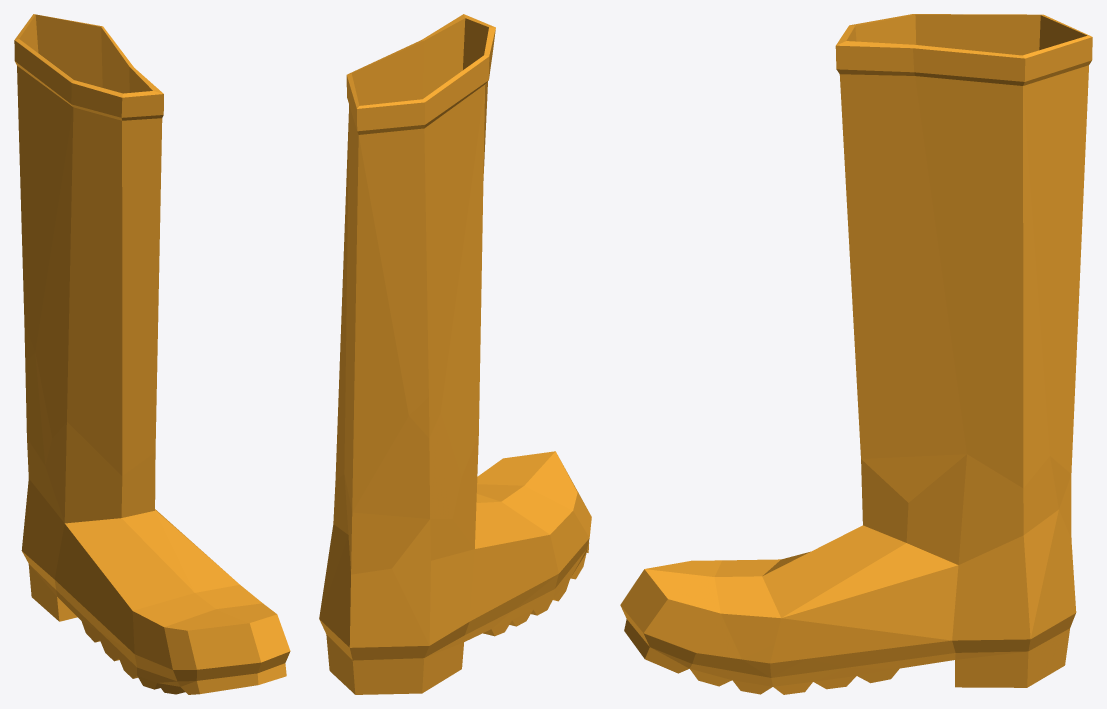
File: SM_Boot_Rain_Dirty_B.fbx
3 renders of one model, left to right at view 1: azimuth 30°, elevation 25°; view 2: azimuth 150°, elevation 25°; view 3: azimuth 270°, elevation 25°, orthographic. The views are drawn at different scales.
Parts seen in each view (by area): view 1: boot-rain-dirty-b; view 2: boot-rain-dirty-b; view 3: boot-rain-dirty-b.
Boxes of the visible parts, box(x1,y1,x2,y2) form: boot-rain-dirty-b: box(14, 14, 290, 694); boot-rain-dirty-b: box(319, 14, 591, 694); boot-rain-dirty-b: box(620, 14, 1092, 694).
Bounding box in the file's own units: 0.095 × 0.4454 × 0.3056.
